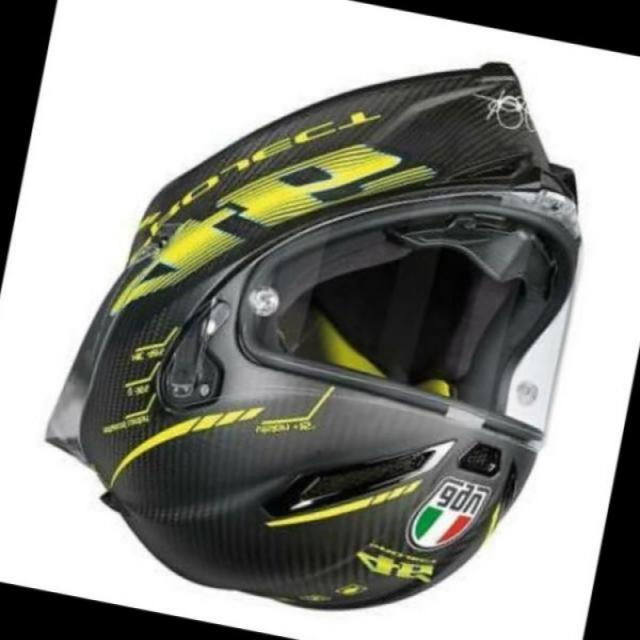Helmet: (24, 35, 584, 620)
